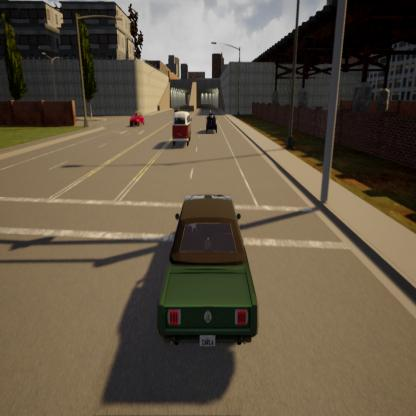Cars: (154, 185, 267, 359), (171, 110, 195, 148), (204, 110, 219, 137), (129, 108, 147, 129)
